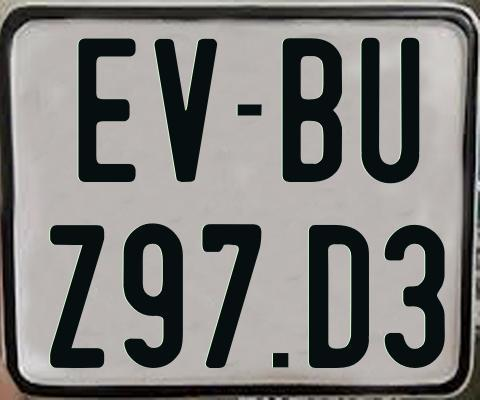3: (385, 222, 447, 369)
7: (202, 224, 266, 368)
9: (123, 220, 189, 369)
B: (281, 36, 345, 182)
D: (309, 222, 375, 367)
E: (76, 36, 139, 182)
U: (358, 36, 420, 186)
V: (151, 39, 220, 184)
Z: (47, 224, 102, 371)
